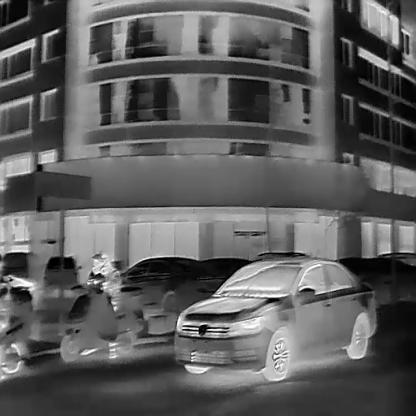car: (173, 254, 378, 381), (59, 250, 144, 362), (108, 256, 225, 305)
